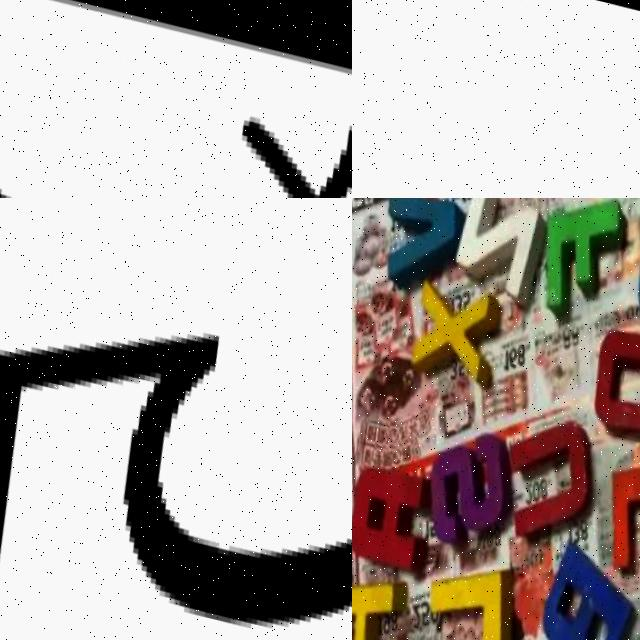5: (0, 198, 352, 640)
A: (352, 461, 431, 573)
B: (510, 538, 637, 640)
E: (579, 437, 640, 585)
F: (522, 198, 630, 323)
L: (398, 558, 517, 640)
O: (572, 318, 640, 445)
Q: (0, 0, 352, 198)
R: (352, 568, 409, 640)
S: (402, 431, 513, 560)
U: (480, 410, 597, 549)
V: (369, 198, 463, 295)
X: (399, 278, 506, 384)
Z: (440, 198, 554, 303)
